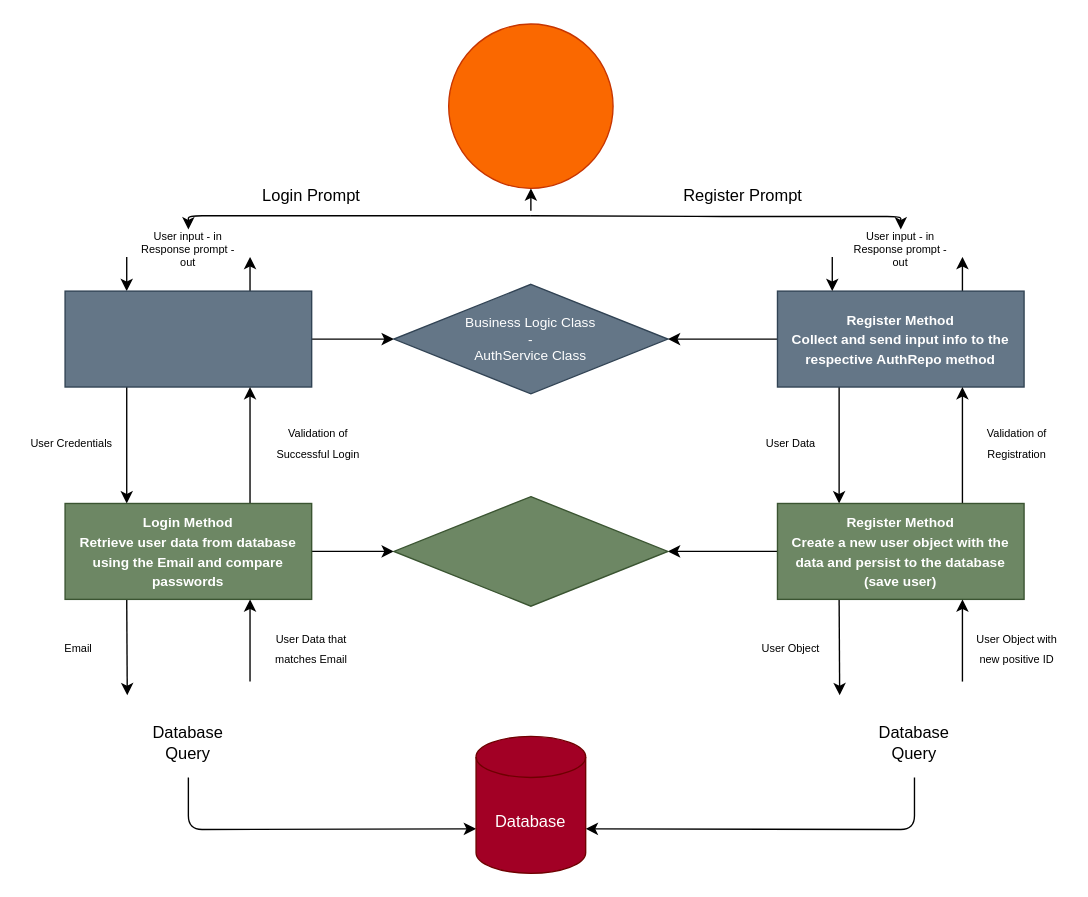
Some shapes in this 1088 by 897 pixel diagram are drawn without their labels. Each missing label, with the centre of its shape:
"Data Access Object Class - AuthRepository Class" goes at pixel 530 550.
"Login Method Collect and send input info to the respective AuthRepo method" goes at pixel 188 338.
"User + Control Menu Service" goes at pixel 530 105.
